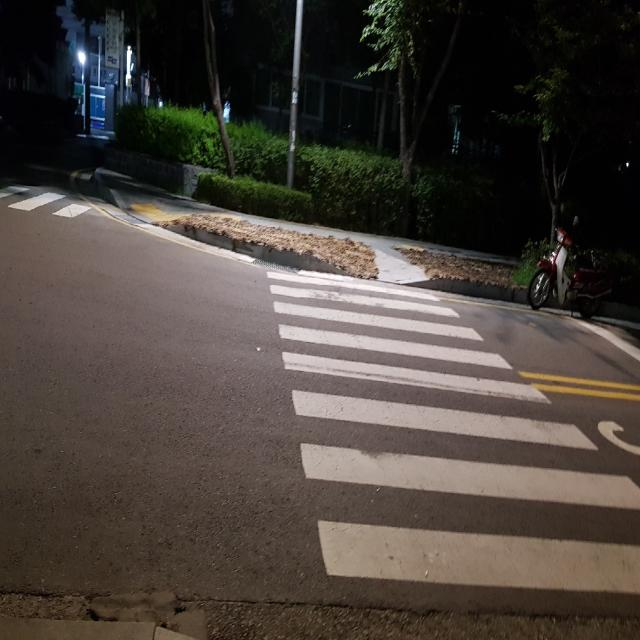횡단보도: (261, 262, 640, 639)
